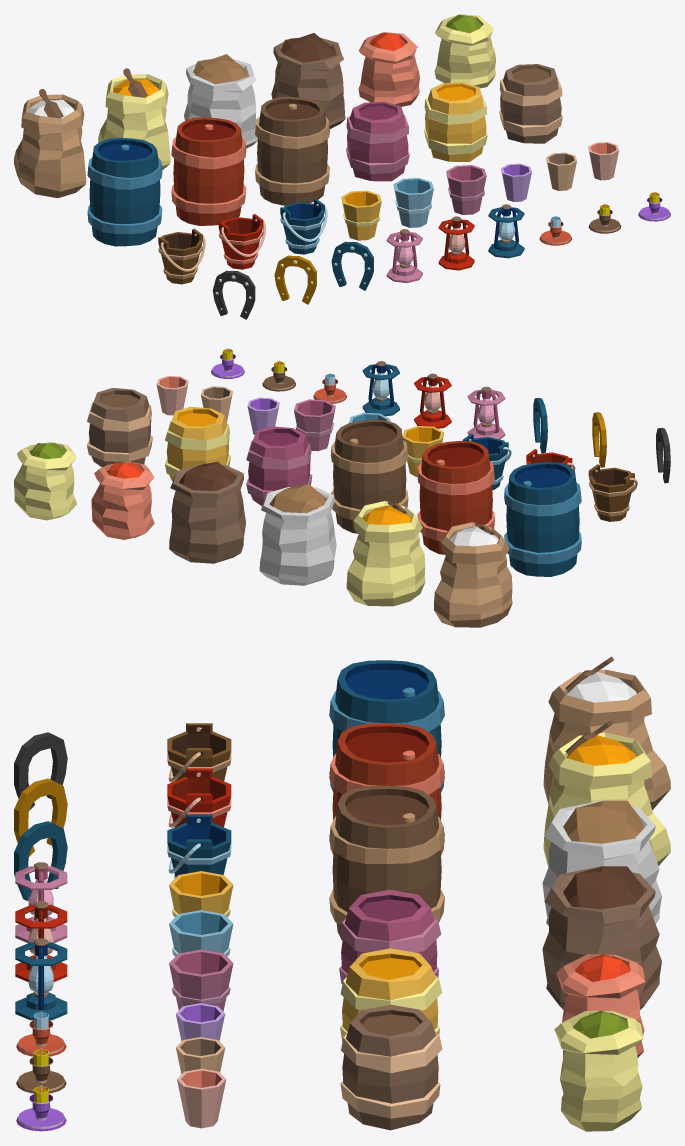
File: saco.glb
3 renders of one model, top to bottom at view 1: azimuth 30°, elevation 25°; view 2: azimuth 150°, elevation 25°; view 3: azimuth 270°, elevation 25°, orthographic. The views are drawn at different scales.
Parts seen in each view (by area): view 1: bigbarrel_01, bigbarrel_03, bigbarrel_02, spice_sack_01, spice_sack_04, spice_sack_03, barrel_03, barrel_01, barrel_02, spice_sack_02.001, spice_sack_05, spice_sack_06 (+18 smaller); view 2: bigbarrel_01, spice_sack_01, spice_sack_02.001, spice_sack_04, spice_sack_03, bigbarrel_02, bigbarrel_03, barrel_03, spice_sack_05, spice_sack_06, barrel_01, barrel_02 (+17 smaller); view 3: bigbarrel_03, spice_sack_04, barrel_03, spice_sack_06, spice_sack_03, spice_sack_02.001, spice_sack_01, bigbarrel_01, bigbarrel_02, barrel_01, barrel_02, spice_sack_05 (+18 smaller).
Part boxes in pixels (x1=…): bigbarrel_01: x1=87, y1=137, x2=162, y2=246; bigbarrel_03: x1=255, y1=96, x2=329, y2=205; bigbarrel_02: x1=171, y1=117, x2=246, y2=225; spice_sack_01: x1=14, y1=94, x2=86, y2=198; spice_sack_04: x1=271, y1=33, x2=345, y2=128; spice_sack_03: x1=184, y1=54, x2=257, y2=148; barrel_03: x1=499, y1=64, x2=562, y2=143; barrel_01: x1=346, y1=101, x2=409, y2=181; barrel_02: x1=424, y1=82, x2=487, y2=161; spice_sack_02.001: x1=98, y1=74, x2=170, y2=169; spice_sack_05: x1=358, y1=32, x2=419, y2=106; spice_sack_06: x1=434, y1=14, x2=495, y2=88; bigbarrel_01: x1=504, y1=462, x2=581, y2=576; spice_sack_01: x1=434, y1=522, x2=512, y2=627; spice_sack_02.001: x1=346, y1=501, x2=425, y2=606; spice_sack_04: x1=169, y1=461, x2=245, y2=563; spice_sack_03: x1=259, y1=483, x2=336, y2=585; bigbarrel_02: x1=417, y1=440, x2=494, y2=554; bigbarrel_03: x1=330, y1=419, x2=408, y2=533; barrel_03: x1=87, y1=388, x2=152, y2=467; spice_sack_05: x1=91, y1=461, x2=154, y2=539; spice_sack_06: x1=14, y1=442, x2=76, y2=520; barrel_01: x1=246, y1=426, x2=312, y2=506; barrel_02: x1=165, y1=406, x2=230, y2=481; bigbarrel_03: x1=329, y1=785, x2=444, y2=940; spice_sack_04: x1=542, y1=865, x2=661, y2=1009; barrel_03: x1=340, y1=1004, x2=442, y2=1130; spice_sack_06: x1=554, y1=1010, x2=643, y2=1131; spice_sack_03: x1=542, y1=800, x2=661, y2=925; spice_sack_02.001: x1=543, y1=732, x2=670, y2=867; spice_sack_01: x1=543, y1=669, x2=670, y2=809; bigbarrel_01: x1=329, y1=660, x2=444, y2=792; bigbarrel_02: x1=329, y1=723, x2=444, y2=855; barrel_01: x1=339, y1=889, x2=441, y2=983; barrel_02: x1=340, y1=948, x2=441, y2=1041; spice_sack_05: x1=556, y1=954, x2=645, y2=1057.
Bounding box in the file's own units: 6.7 × 1.32 × 5.28.
1 material, 1 textured.
